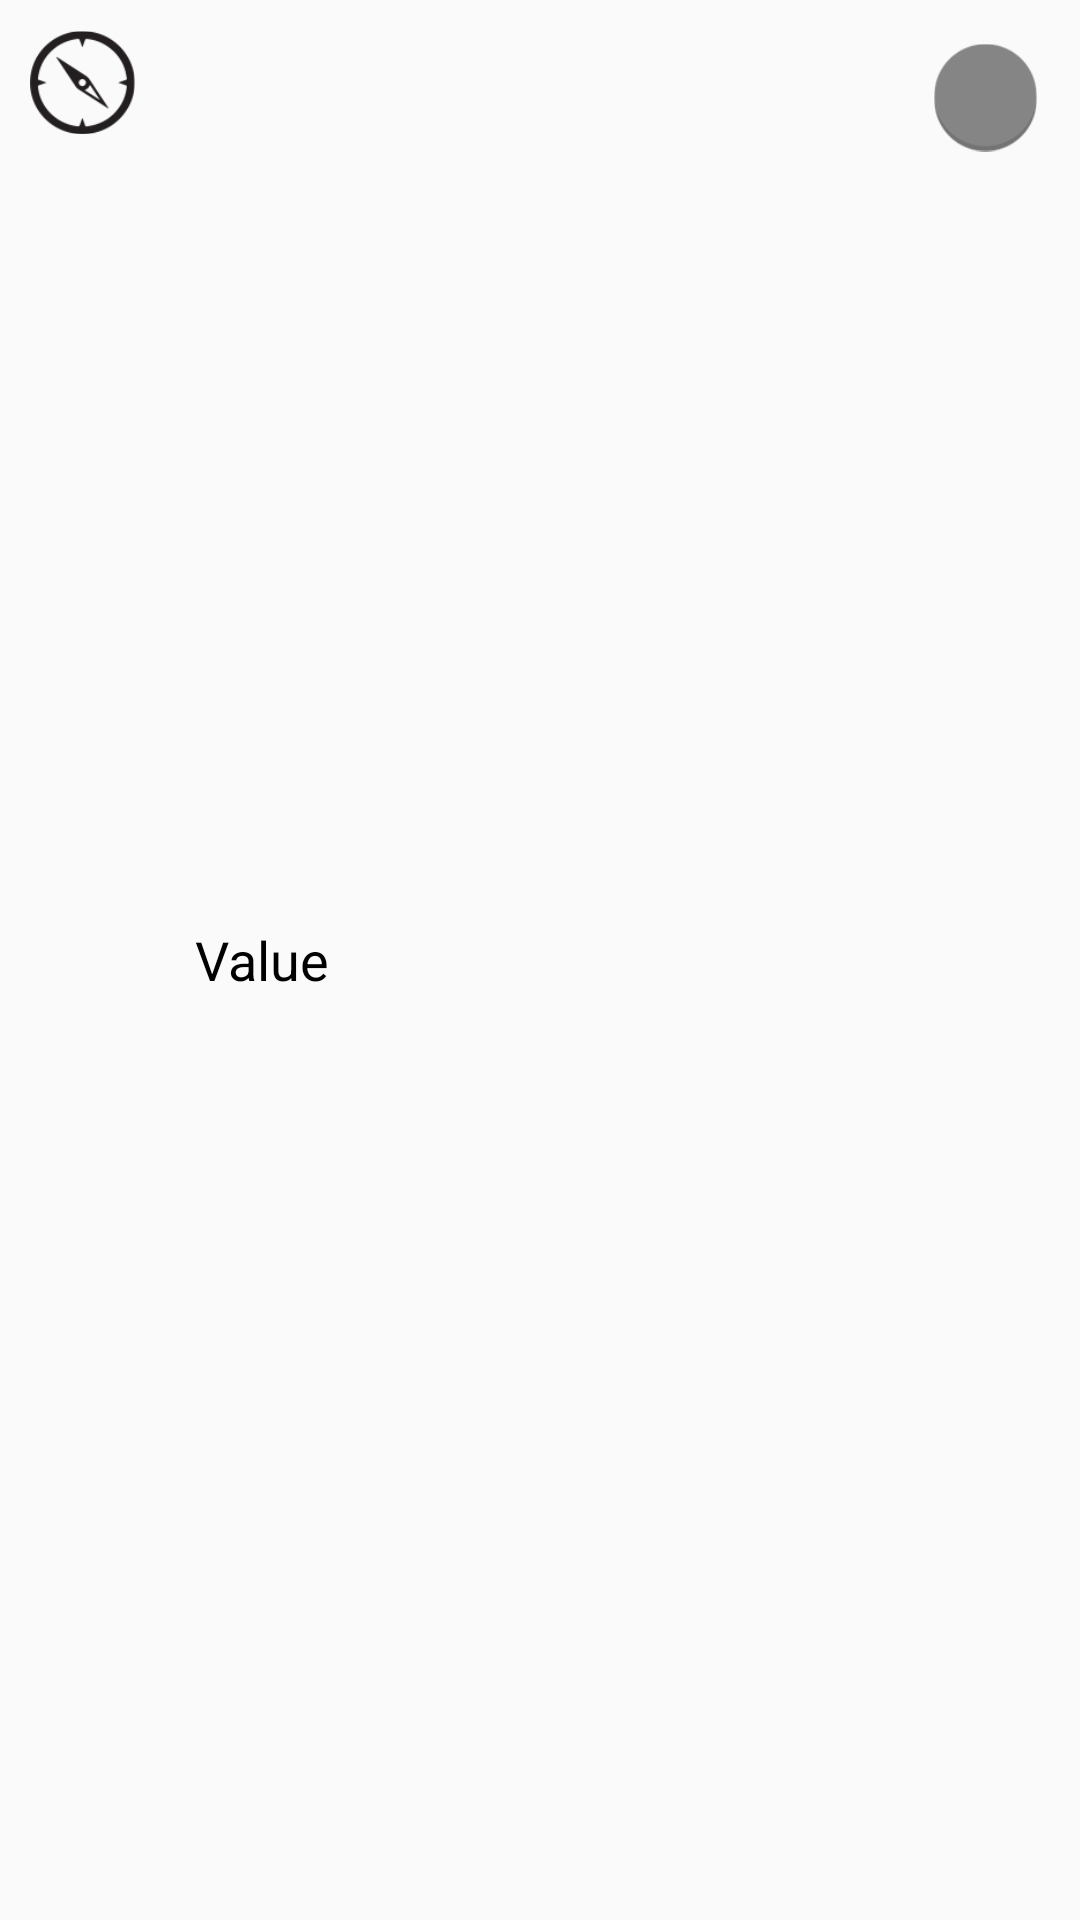

Named icons in this screenshot (1080×1920) and their centers, (x=x, y=y):
orientation: (x=82, y=82)
